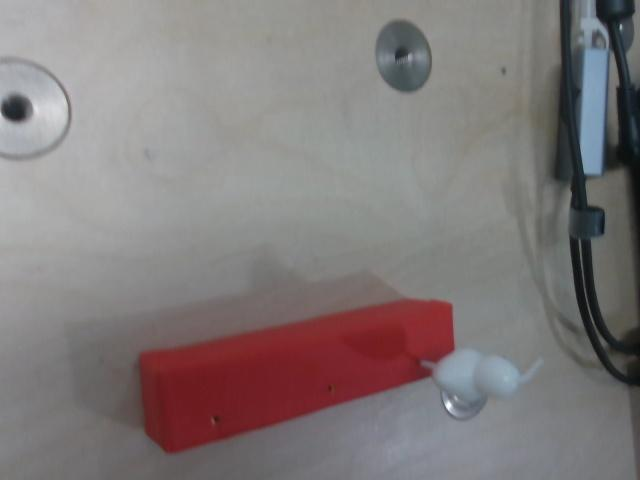w_duck: (418, 332, 547, 412)
